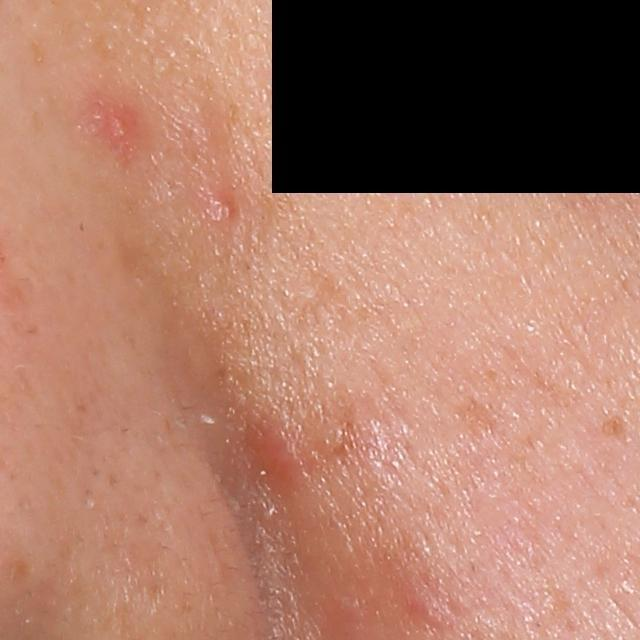melasma: (450, 397, 501, 443), (596, 415, 631, 452)
papule: (204, 186, 238, 225)
